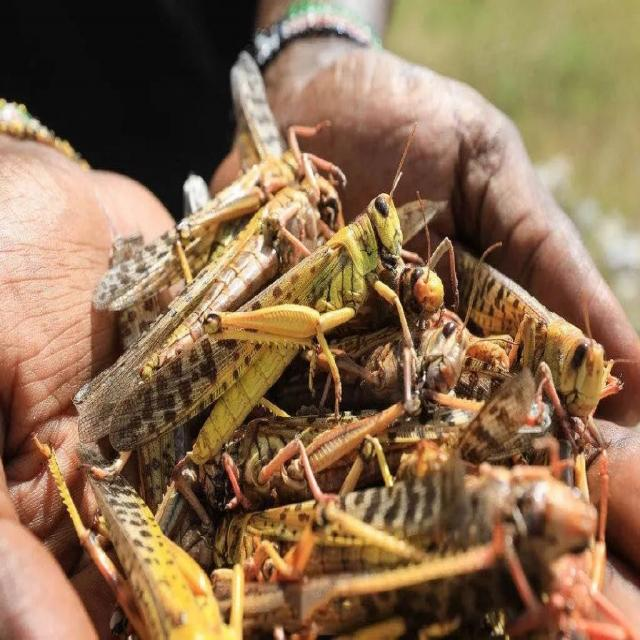ZhaMeng: (98, 175, 423, 505), (58, 168, 346, 456), (205, 459, 466, 582), (450, 254, 619, 432)
